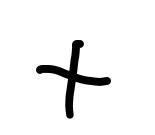plus: (34, 40, 110, 115)
